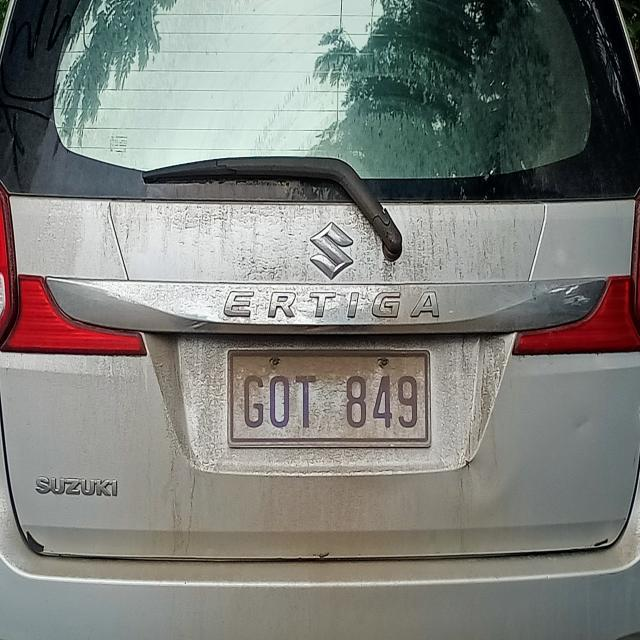LicensePlate: (225, 340, 434, 448)
